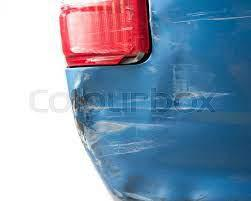rear-bumper-dent: (55, 0, 250, 200)
